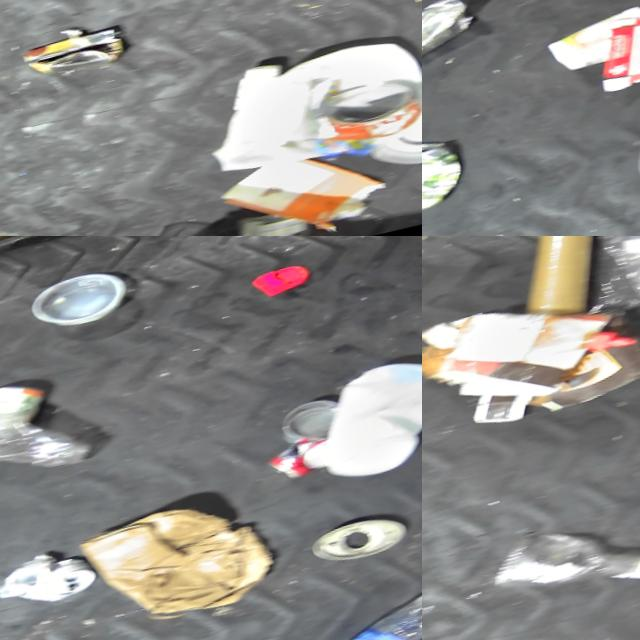can: (15, 17, 136, 87), (319, 68, 422, 147), (0, 538, 102, 614), (307, 506, 414, 567), (422, 129, 475, 222), (275, 391, 348, 446), (422, 0, 482, 63), (263, 429, 331, 483), (0, 372, 50, 426)
milk_jug: (285, 344, 422, 490)
plastic_bottle: (484, 500, 640, 612), (0, 370, 97, 505), (299, 569, 422, 640)
